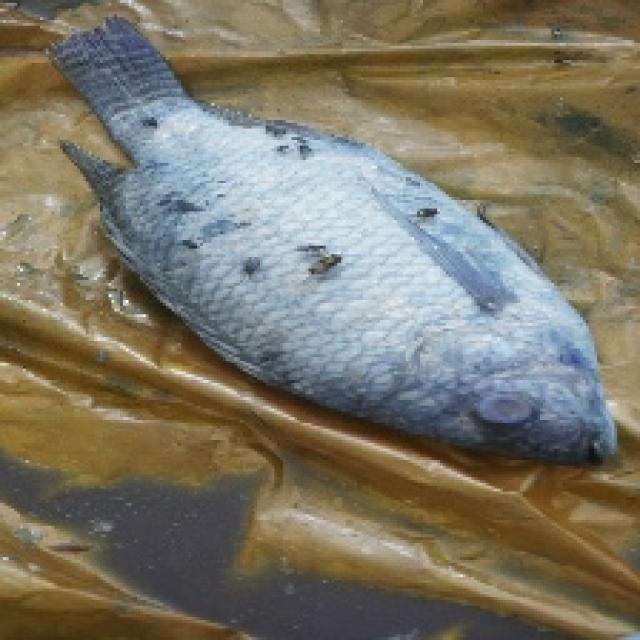Non-Fresh: (95, 87, 611, 457), (470, 383, 538, 434)
